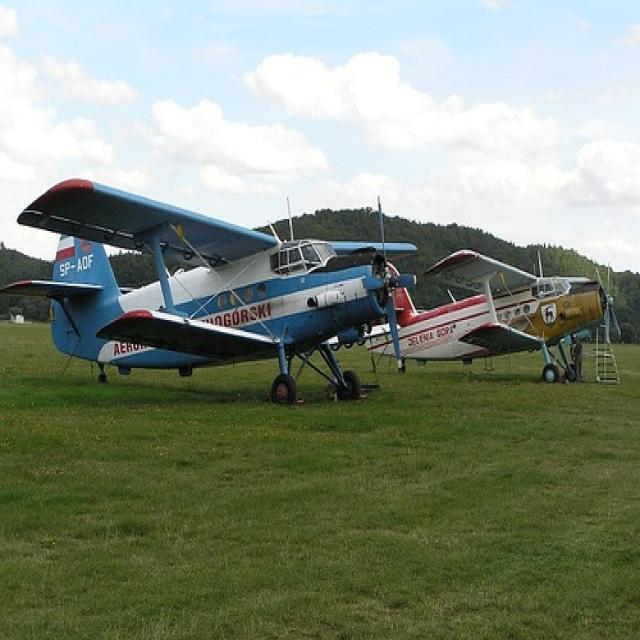aeroplane: (11, 176, 411, 402), (365, 243, 614, 382)
